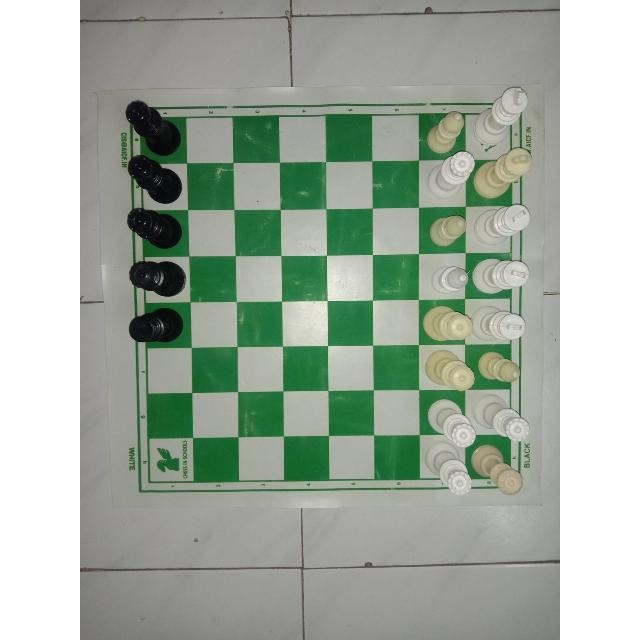black-king: (123, 304, 185, 346)
black-queen: (123, 97, 185, 155), (124, 153, 184, 207), (120, 206, 182, 250), (126, 257, 186, 299)
white-bishop: (422, 108, 468, 156), (473, 348, 523, 386), (425, 209, 466, 248), (426, 264, 470, 296)
white-king: (473, 85, 529, 149), (469, 145, 535, 199), (470, 201, 534, 246), (467, 305, 527, 345), (469, 256, 531, 294)
white-queen: (469, 442, 525, 498), (421, 437, 471, 495), (471, 392, 531, 440), (425, 151, 477, 203), (425, 396, 477, 448), (421, 344, 475, 391), (421, 301, 470, 344)
